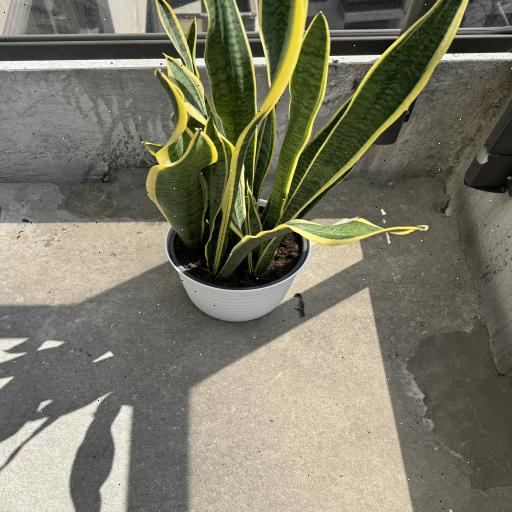Plant Pot: (165, 199, 314, 321)
